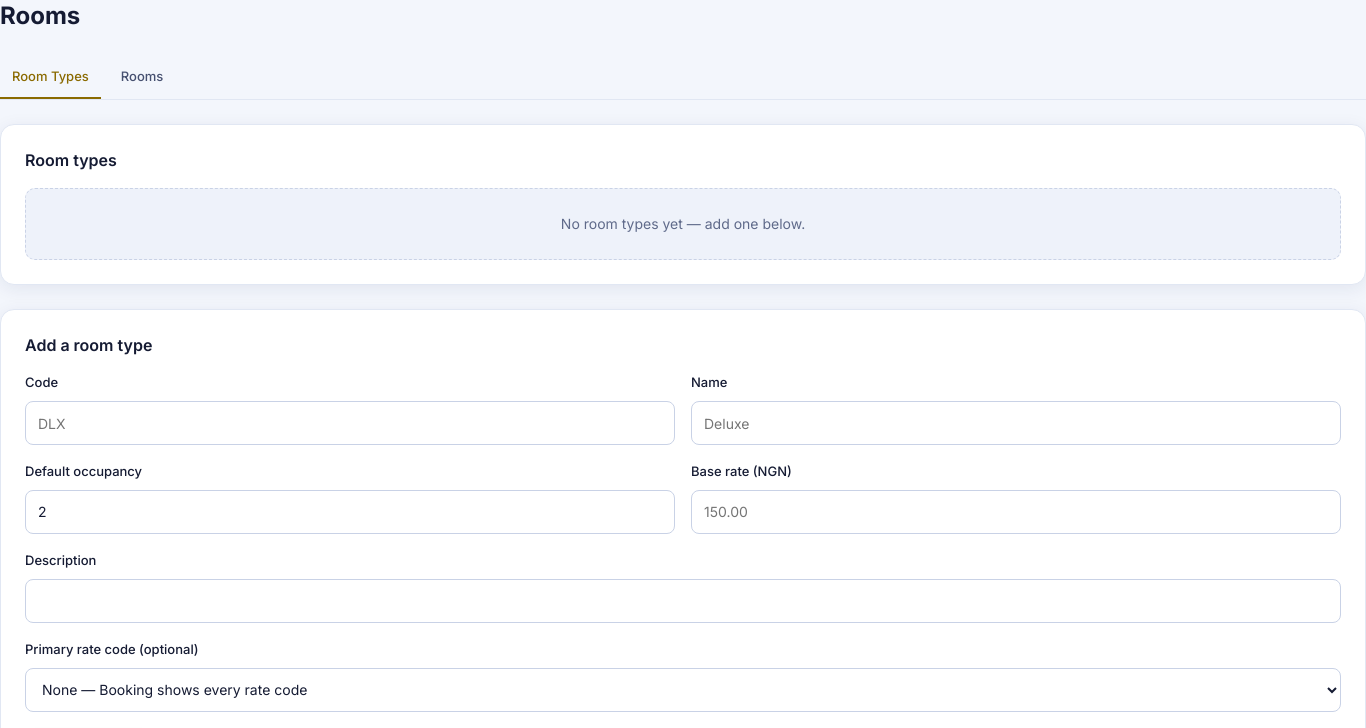
it: <RoomsScreen> › threads isOffline to the Rooms tab, which disables room changes and says why
Click the tab "Rooms" at point(142, 77), box [109, 55, 175, 99]
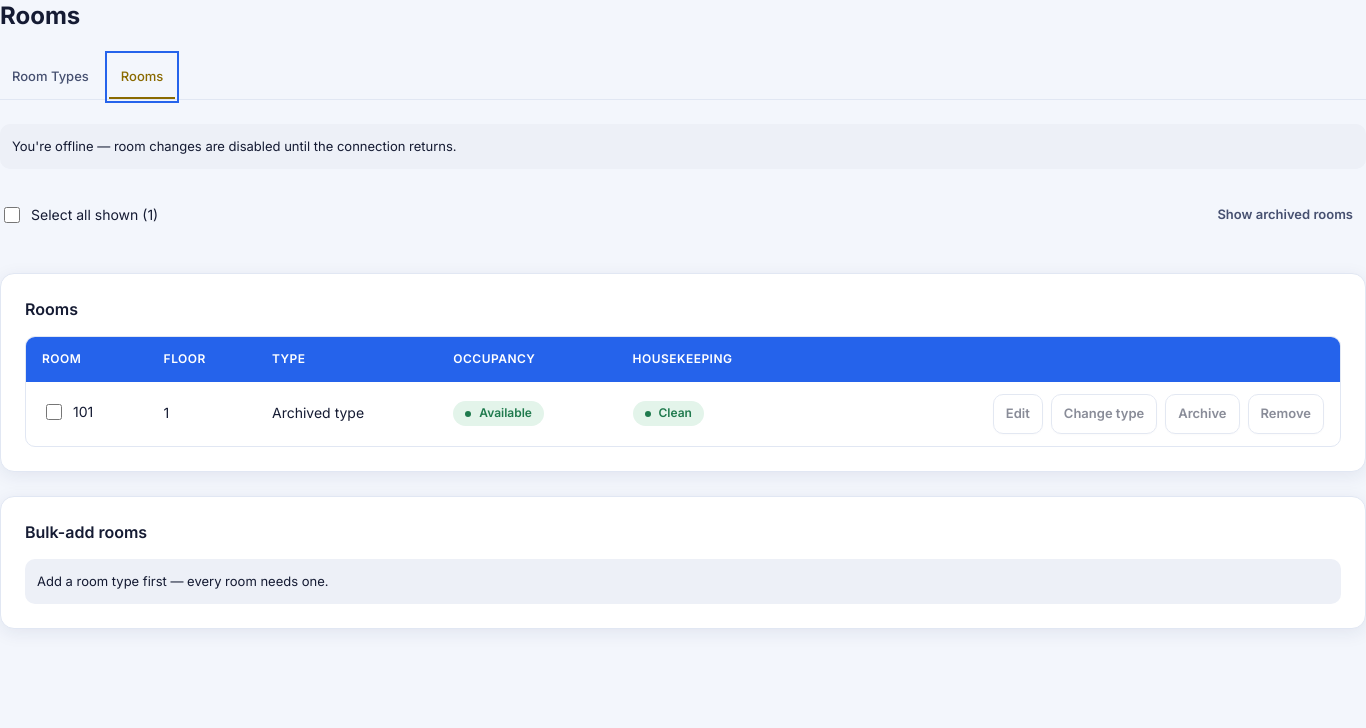
Now the text "101" is shown, box [42, 401, 93, 423]
Now the text "You're offline" is shown, box [12, 138, 457, 154]
Now the button "Archive" is disabled, box [1165, 394, 1240, 434]
